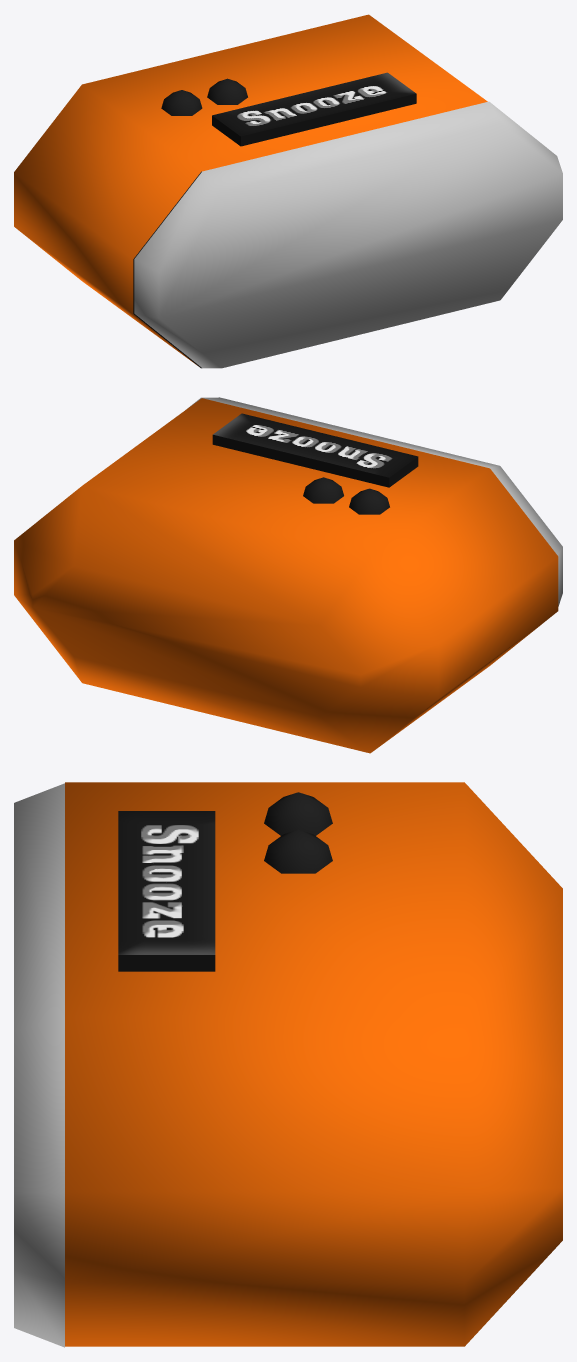
The model's file is Alarm_Clock_D.FBX.
3 views of the same model, one above another, from view 1: azimuth 30°, elevation 25°; view 2: azimuth 150°, elevation 25°; view 3: azimuth 270°, elevation 25° (orthographic). The views are drawn at different scales.
Parts seen in each view (by area): view 1: Alarm Clock; view 2: Alarm Clock; view 3: Alarm Clock.
Part boxes in pixels (x1,y1,x2,y2): Alarm Clock: [14, 14, 562, 368]; Alarm Clock: [14, 397, 562, 753]; Alarm Clock: [14, 782, 562, 1347].
Size of the model in its own units: 45.12 by 21.9 by 30.18.
